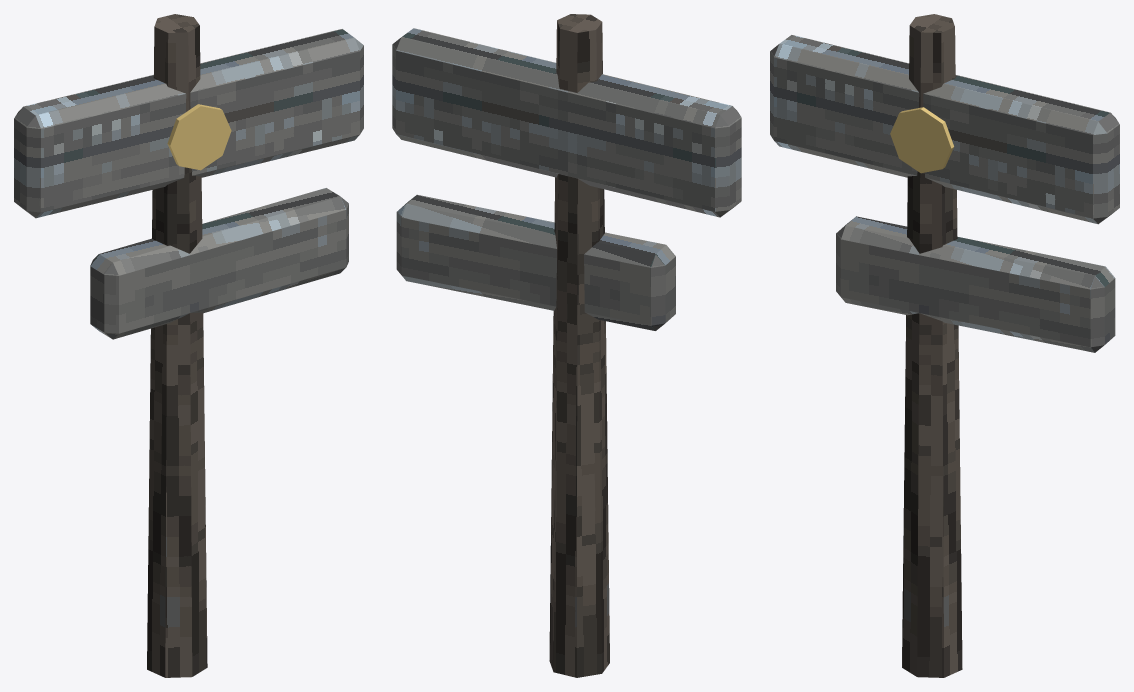
Rendered from enfeite_placa.fbx.
3 views of the same model, side by side, from view 1: azimuth 30°, elevation 25°; view 2: azimuth 150°, elevation 25°; view 3: azimuth 330°, elevation 25° (orthographic).
Parts seen in each view (by area): view 1: neve_enfeite_placa; view 2: neve_enfeite_placa; view 3: neve_enfeite_placa.
Part boxes in pixels (x1=…): neve_enfeite_placa: x1=14, y1=14, x2=363, y2=677; neve_enfeite_placa: x1=392, y1=14, x2=741, y2=677; neve_enfeite_placa: x1=770, y1=14, x2=1119, y2=677.
Size of the model in its own units: 55 by 100 by 9.9.
Materials: 3 (2 with a texture image).
